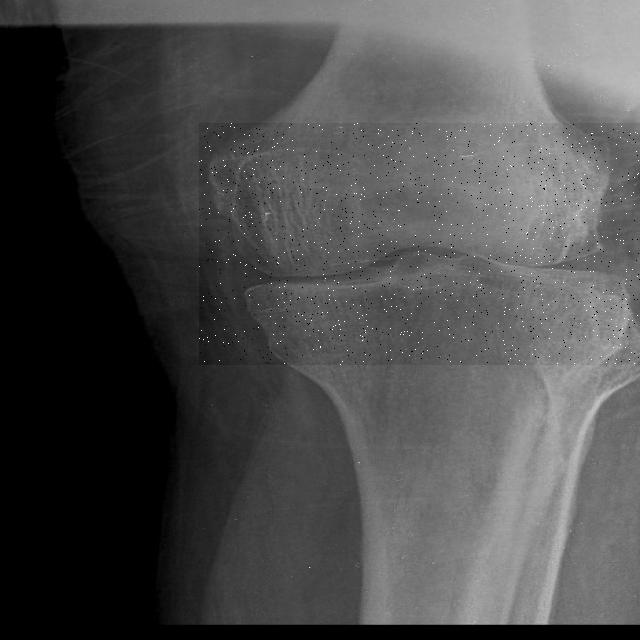osteo: (199, 123, 640, 365)
